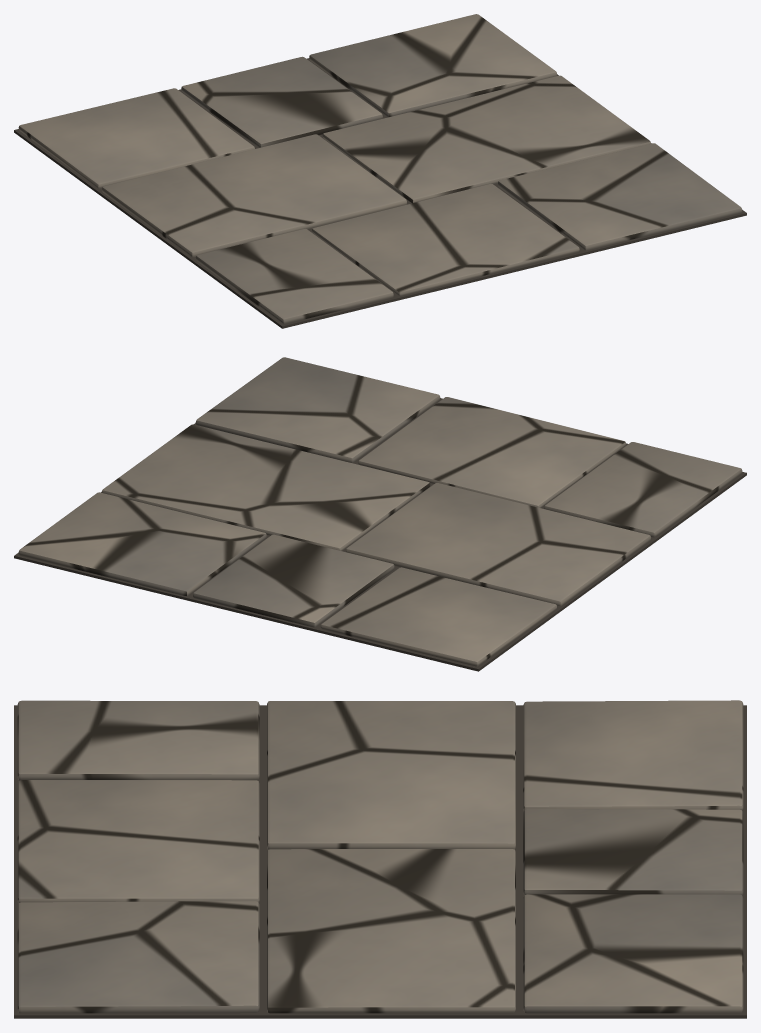
Rendered from court_tile.glb.
3 renders of one model, top to bottom at view 1: azimuth 30°, elevation 25°; view 2: azimuth 150°, elevation 25°; view 3: azimuth 270°, elevation 25°, orthographic. The views are drawn at different scales.
Parts seen in each view (by area): view 1: CourtTile_Body; view 2: CourtTile_Body; view 3: CourtTile_Body.
Boxes of the visible parts, x1,y1,x2,y2 form: CourtTile_Body: (14, 14, 746, 328); CourtTile_Body: (14, 357, 746, 671); CourtTile_Body: (14, 700, 746, 1018).
Size of the model in its own units: 2 by 0.0362 by 2.
2 materials, 1 textured.
